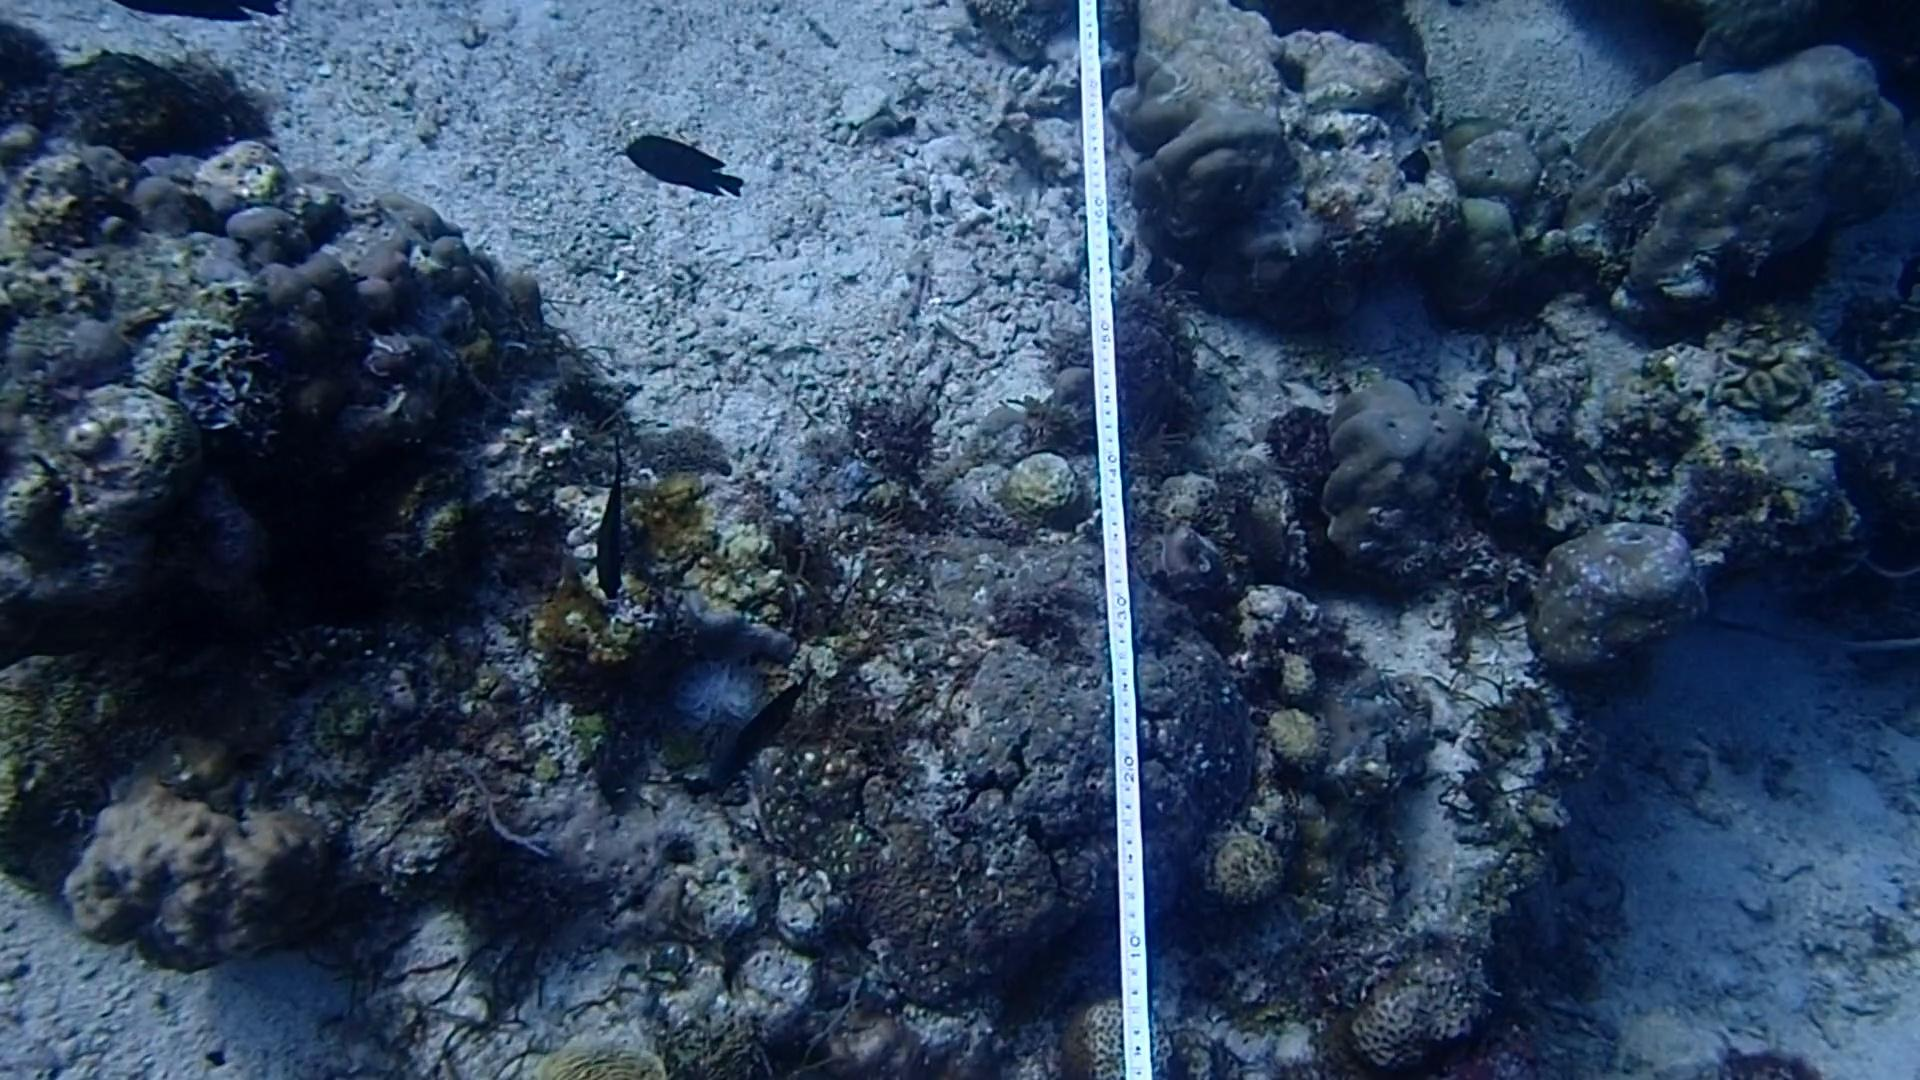Dark Fish: (695, 670, 819, 785), (611, 115, 749, 210), (579, 422, 640, 603), (96, 0, 291, 32)
